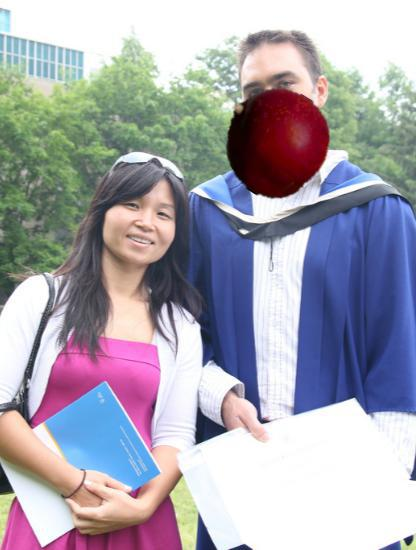Nectarine: (220, 87, 330, 197)
